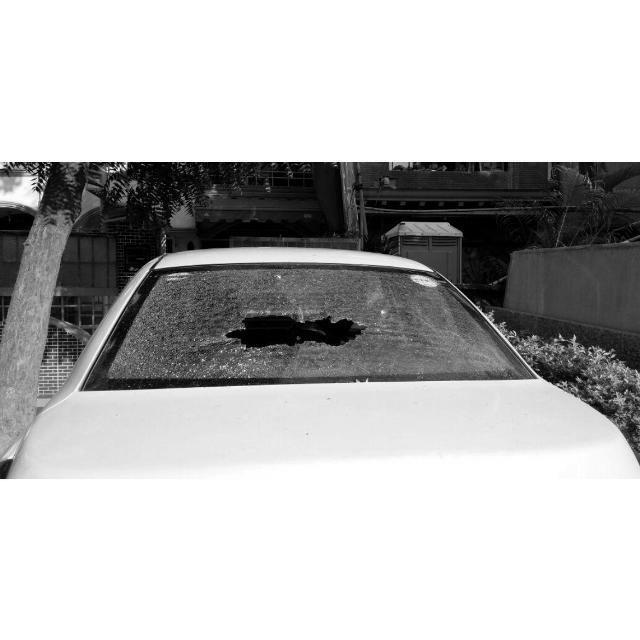Rear-windscreen-Damage: (102, 258, 545, 410)
